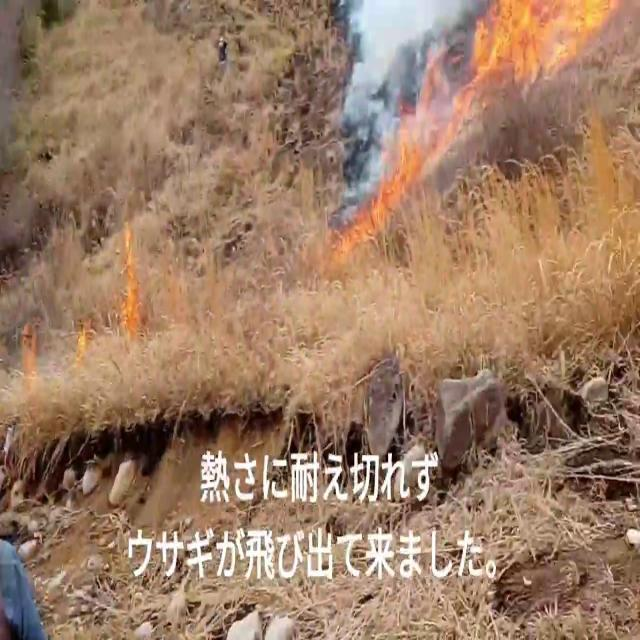Fire: (376, 46, 476, 212), (466, 0, 626, 86), (114, 217, 146, 337)
